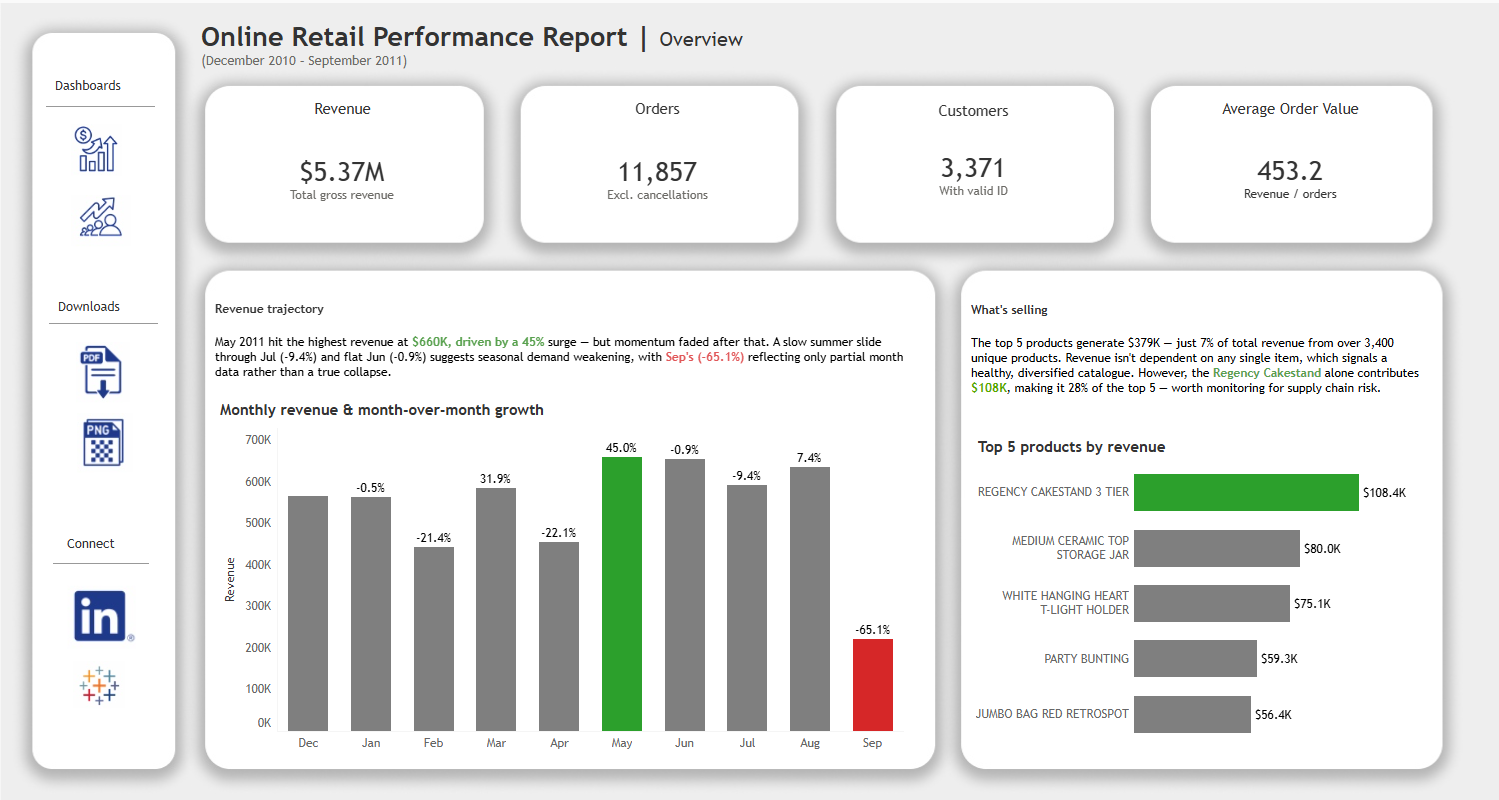

The dashboard page shown, as its layout file describes it:
{"tool":"tableau","page":{"name":"Overview","canvas":[1000,1000],"units":"permille","ordinal":0},"visuals":[{"type":"image","param":"Image/Overview Layout.png","box":[0,0,1000,1000]},{"type":"text","box":[134,11.2,602,83.8]},{"type":"text","box":[36.7,85,68.7,37.5]},{"type":"worksheet","title":"Revenue","mark":"Automatic","box":[140.7,112.5,175.3,171.2]},{"type":"worksheet","title":"Orders","mark":"Automatic","box":[350.7,112.5,175.3,171.2]},{"type":"worksheet","title":"AOV","mark":"Automatic","box":[772,112.5,176.7,167.5]},{"type":"worksheet","title":"Customers","mark":"Automatic","box":[562,115,174,156.2]},{"type":"blank","box":[30.7,128.8,72.7,1.2]},{"type":"dashboard-object","box":[30.7,151.2,66.7,65]},{"type":"dashboard-object","box":[34.7,240,64.7,65]},{"type":"text","box":[143.3,342.5,466.7,161.2]},{"type":"text","box":[647.3,346.2,308,173.8]},{"type":"text","box":[38.7,361.2,66.7,37.5]},{"type":"blank","box":[32.7,400,72.7,1.2]},{"type":"dashboard-object","box":[35.3,423.8,66.7,76.2]},{"type":"worksheet","title":"Monthly revenue & month-over-month growth","mark":"Bar","rows":["Calculation_0900549600825360"],"cols":["invoice_date"],"box":[144,488.8,458.7,446.2]},{"type":"dashboard-object","box":[39.3,512.5,60.7,75]},{"type":"worksheet","title":"Top 5 Products by revenue","mark":"Automatic","rows":["description"],"cols":["Calculation_0900549600825360"],"box":[649.3,535,298,388.8]},{"type":"text","box":[44.7,657.5,66.7,37.5]},{"type":"blank","box":[35.3,700,64,1.2]},{"type":"image","param":"Image/Screenshot 2026-03-17 221749.png","box":[44.7,727.5,46,81.2]},{"type":"image","param":"Image/Screenshot 2026-03-17 221802.png","box":[44.7,822.5,42.7,60]}]}

Visuals, with their boxes on the dashboard's canvas, which has no fixed pixel size, in thousandths of its width and height (x1, y1, x2, y2). These are canvas units, not pixel positions in the 1499x800 screenshot, which may show the page scaled, cropped or inside an application window:
image: [0, 0, 1000, 1000]
text: [134, 11, 736, 95]
text: [37, 85, 105, 122]
"Revenue" worksheet: [141, 112, 316, 284]
"Orders" worksheet: [351, 112, 526, 284]
"AOV" worksheet: [772, 112, 949, 280]
"Customers" worksheet: [562, 115, 736, 271]
blank: [31, 129, 103, 130]
dashboard-object: [31, 151, 97, 216]
dashboard-object: [35, 240, 99, 305]
text: [143, 342, 610, 504]
text: [647, 346, 955, 520]
text: [39, 361, 105, 399]
blank: [33, 400, 105, 401]
dashboard-object: [35, 424, 102, 500]
"Monthly revenue & month-over-month growth" worksheet (Bar marks): [144, 489, 603, 935]
dashboard-object: [39, 512, 100, 588]
"Top 5 Products by revenue" worksheet: [649, 535, 947, 924]
text: [45, 658, 111, 695]
blank: [35, 700, 99, 701]
image: [45, 728, 91, 809]
image: [45, 822, 87, 882]
